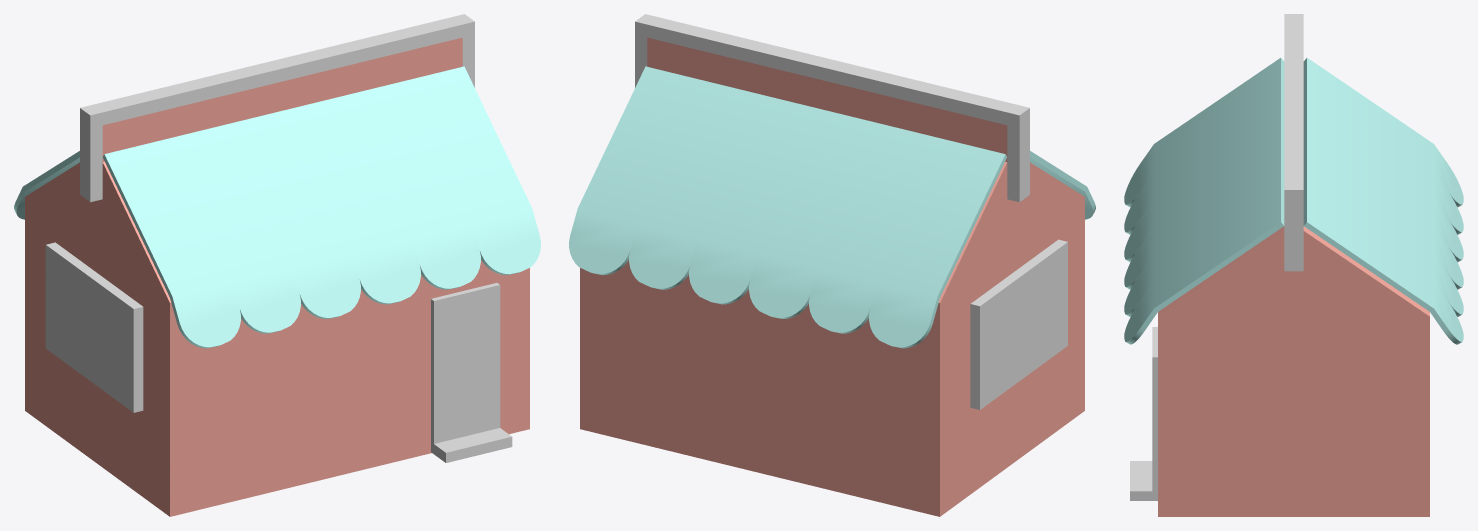
File: shop6.gltf
The picture shows the model from 3 angles, left to right: view 1: azimuth 30°, elevation 25°; view 2: azimuth 150°, elevation 25°; view 3: azimuth 270°, elevation 25°; orthographic projection. The views are drawn at different scales.
Parts seen in each view (by area): view 1: Cube, Cube.002, Cube.001, Cube.006, Cube.005, Cube.004; view 2: Cube, Cube.002, Cube.001, Cube.006; view 3: Cube, Cube.002, Cube.001, Cube.005, Cube.004.
Part boxes in pixels (x1,y1,x2,y2): Cube: (25, 37, 529, 516); Cube.002: (14, 66, 540, 348); Cube.001: (80, 14, 474, 202); Cube.006: (45, 242, 143, 412); Cube.005: (431, 283, 500, 443); Cube.004: (431, 428, 512, 462); Cube: (580, 37, 1084, 516); Cube.002: (569, 66, 1095, 348); Cube.001: (635, 14, 1029, 202); Cube.006: (970, 239, 1067, 409); Cube: (1158, 226, 1429, 516); Cube.002: (1124, 58, 1463, 344); Cube.001: (1284, 14, 1303, 271); Cube.005: (1152, 327, 1157, 491); Cube.004: (1130, 461, 1157, 500).
Size of the model in its own units: 3.78 by 3.33 by 3.08.
Materials: 2 (2 with a texture image).
